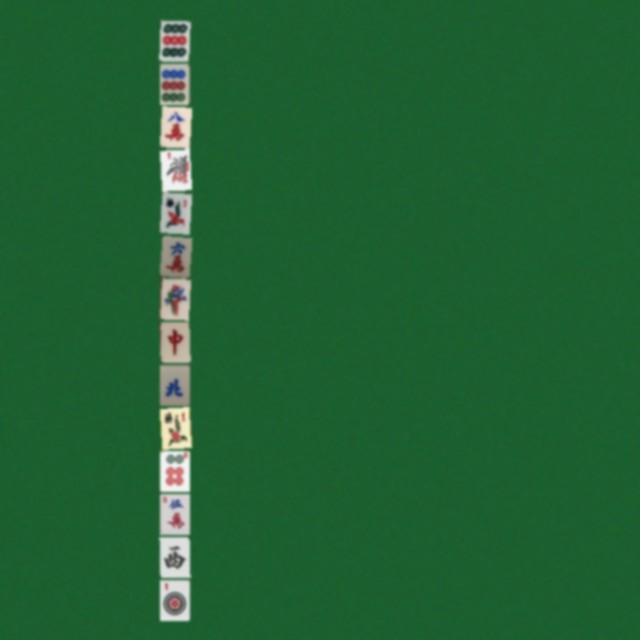tile: (159, 20, 189, 61), (159, 63, 189, 104), (159, 106, 189, 147), (159, 149, 189, 190), (159, 192, 189, 233), (159, 235, 189, 276), (159, 278, 189, 319), (159, 321, 189, 362), (159, 364, 189, 405), (159, 407, 189, 448), (159, 450, 189, 491), (159, 493, 189, 534), (159, 536, 189, 577), (159, 579, 189, 620)
